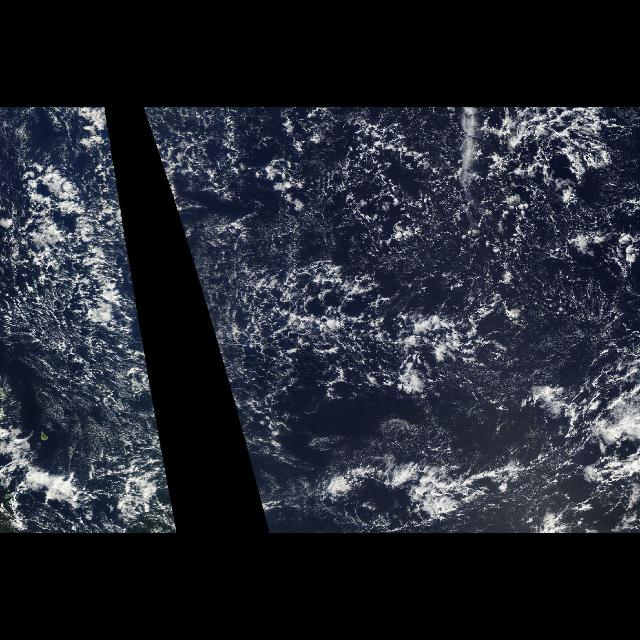Gravel: (204, 120, 602, 440), (2, 214, 150, 372)
Sugar: (10, 370, 160, 480)
